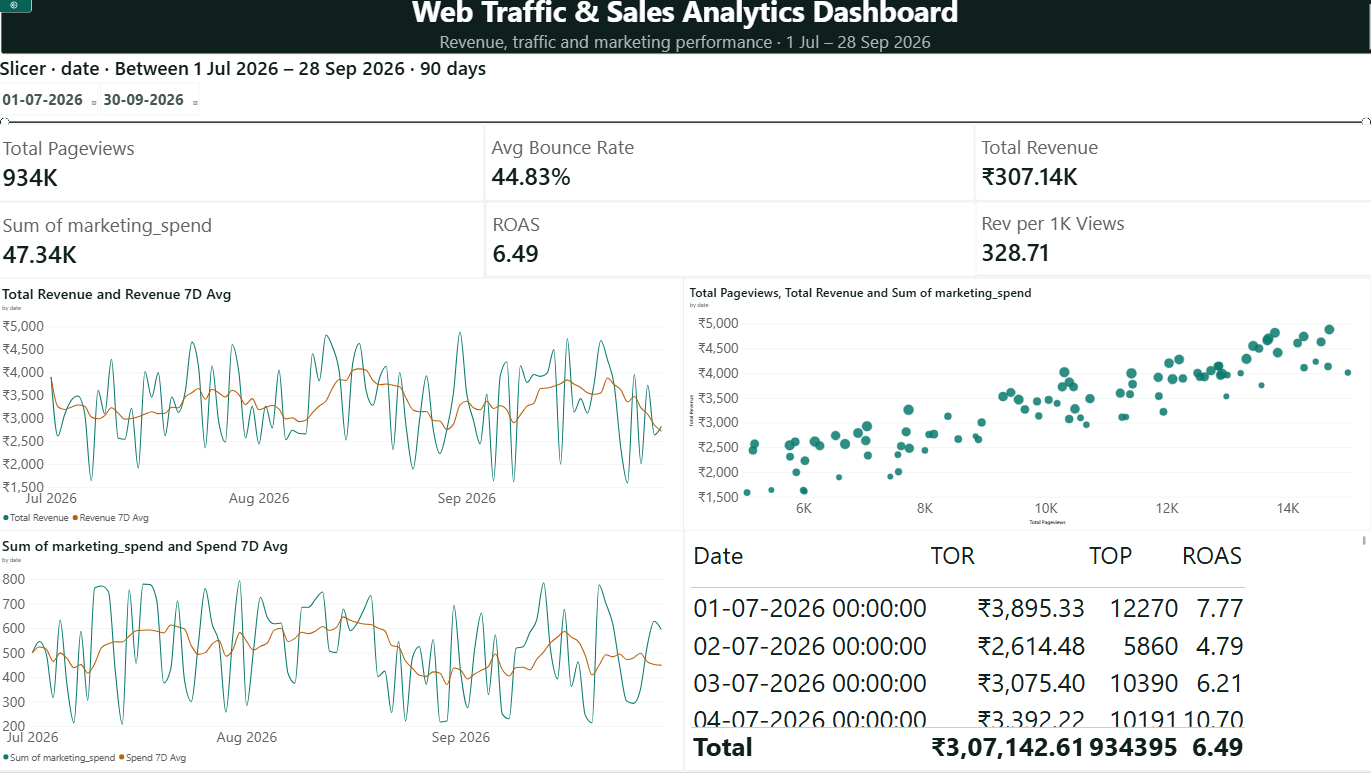

Layout of this report page (visuals, bound fields, positions):
{"tool":"powerbi","page":{"name":"Page 1","canvas":[3840,2160],"ordinal":0},"visuals":[{"type":"textbox","box":[12.3,0,3828.5,156.1],"z":0},{"type":"slicer","fields":{"Values":["daily_traffic_sales (2).date"]},"box":[0,156.1,3840.8,238.3],"z":1},{"type":"cardVisual","fields":{"Data":["daily_traffic_sales (2).Total Pageviews"]},"box":[0,352.3,1364,216.3],"z":2},{"type":"cardVisual","fields":{"Data":["daily_traffic_sales (2).Avg Bounce Rate"]},"box":[1363.8,353.3,1367.9,213.6],"z":3},{"type":"cardVisual","fields":{"Data":["daily_traffic_sales (2).Total Revenue"]},"box":[2731.7,353.3,1109.1,213.6],"z":4},{"type":"cardVisual","fields":{"Data":["Sum(daily_traffic_sales (2).marketing_spend)"]},"box":[0,566.9,1363.8,213.6],"z":5},{"type":"cardVisual","fields":{"Data":["daily_traffic_sales (2).Rev per 1K Views"]},"box":[2731.7,566.9,1109.1,205.4],"z":6},{"type":"cardVisual","fields":{"Data":["daily_traffic_sales (2).ROAS"]},"box":[1367.9,566.9,1367.9,209.5],"z":7},{"type":"lineChart","fields":{"Category":["daily_traffic_sales (2).date"],"Y":["daily_traffic_sales (2).Total Revenue","daily_traffic_sales (2).Revenue 7D Avg"]},"box":[0,780.5,1918.4,706.5],"z":8},{"type":"lineChart","fields":{"Category":["daily_traffic_sales (2).date"],"Y":["Sum(daily_traffic_sales (2).marketing_spend)","daily_traffic_sales (2).Spend 7D Avg"]},"box":[0,1487,1918.4,669.6],"z":9},{"type":"scatterChart","fields":{"Category":["daily_traffic_sales (2).date"],"Size":["Sum(daily_traffic_sales (2).marketing_spend)"],"X":["daily_traffic_sales (2).Total Pageviews"],"Y":["daily_traffic_sales (2).Total Revenue"]},"box":[1918.4,780.5,1918.4,706.5],"z":10},{"type":"tableEx","fields":{"Values":["daily_traffic_sales (2).date","daily_traffic_sales (2).Total Revenue","daily_traffic_sales (2).Total Pageviews","daily_traffic_sales (2).ROAS"]},"box":[1922.5,1487,1918,670],"z":11},{"type":"actionButton","box":[0,0,100,40],"z":12}]}

Visuals, with their boxes in screenshot pixels (x1, y1, x2, y2), scaled from the page's 3840x2160 canvas onto the 1371x773 screenshot:
textbox: 4/0/1370/56
slicer - daily_traffic_sales (2).date: 0/56/1370/141
cardVisual - daily_traffic_sales (2).Total Pageviews: 0/126/487/203
cardVisual - daily_traffic_sales (2).Avg Bounce Rate: 487/126/975/203
cardVisual - daily_traffic_sales (2).Total Revenue: 975/126/1370/203
cardVisual - Sum(daily_traffic_sales (2).marketing_spend): 0/203/487/279
cardVisual - daily_traffic_sales (2).Rev per 1K Views: 975/203/1370/276
cardVisual - daily_traffic_sales (2).ROAS: 488/203/977/278
lineChart - daily_traffic_sales (2).date x daily_traffic_sales (2).Total Revenue: 0/279/685/532
lineChart - daily_traffic_sales (2).date x Sum(daily_traffic_sales (2).marketing_spend): 0/532/685/772
scatterChart - daily_traffic_sales (2).date x Sum(daily_traffic_sales (2).marketing_spend): 685/279/1370/532
tableEx - daily_traffic_sales (2).date x daily_traffic_sales (2).Total Revenue: 686/532/1370/772
actionButton: 0/0/36/14
